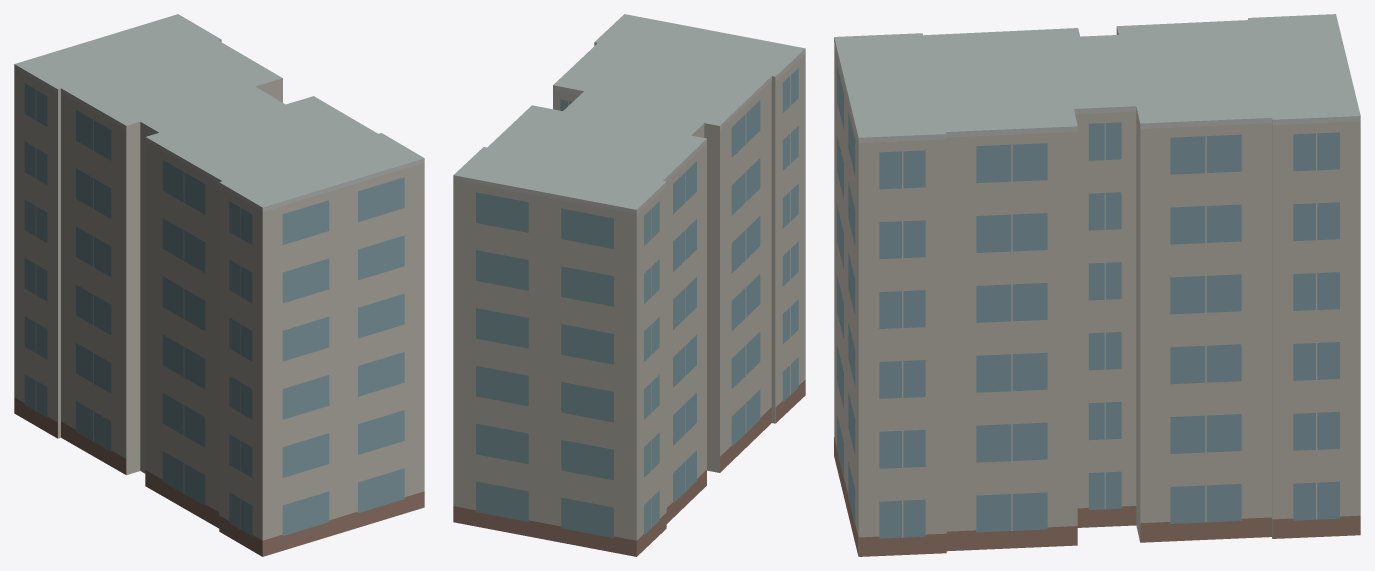
The model's file is survey-upis-32667032.glb.
The picture shows the model from 3 angles, left to right: view 1: azimuth 30°, elevation 25°; view 2: azimuth 150°, elevation 25°; view 3: azimuth 270°, elevation 25°; orthographic projection. The views are drawn at different scales.
Visible parts, largest first — view 1: survey-upis-32667032.tmp; view 2: survey-upis-32667032.tmp; view 3: survey-upis-32667032.tmp.
Part boxes in pixels (box(x1,y1,x2,y2)): survey-upis-32667032.tmp: box(14, 14, 424, 556); survey-upis-32667032.tmp: box(453, 14, 805, 556); survey-upis-32667032.tmp: box(834, 14, 1360, 556).
Size of the model in its own units: 12.1 by 19.1 by 21.76.
